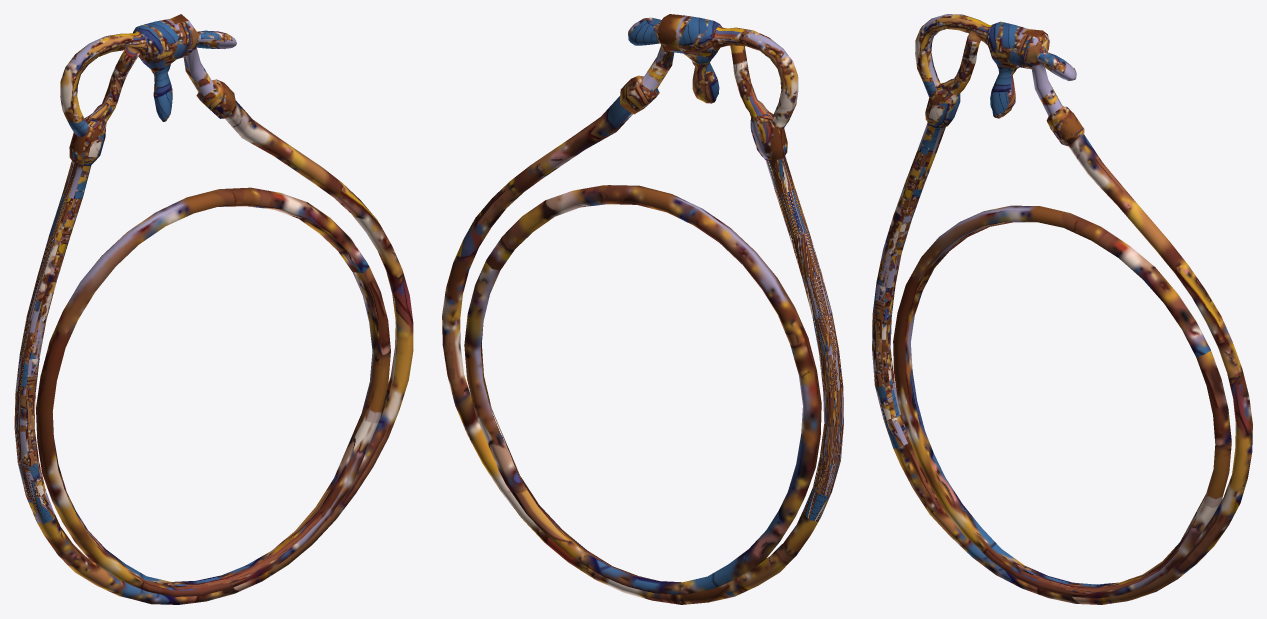
File: Soga.fbx
The picture shows the model from 3 angles, left to right: view 1: azimuth 30°, elevation 25°; view 2: azimuth 150°, elevation 25°; view 3: azimuth 330°, elevation 25°; orthographic projection. The views are drawn at different scales.
Visible parts, largest first — view 1: Soga; view 2: Soga; view 3: Soga.
Part boxes in pixels (box(x1,y1,x2,y2)): Soga: box(14, 14, 413, 604); Soga: box(442, 14, 843, 604); Soga: box(872, 14, 1252, 604).
Bounding box in the file's own units: 30.99 × 44.07 × 3.14.
